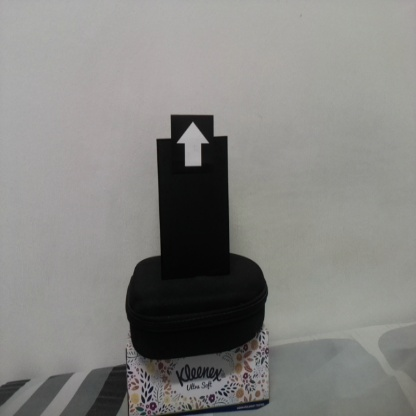id_1: (171, 115, 214, 178)
